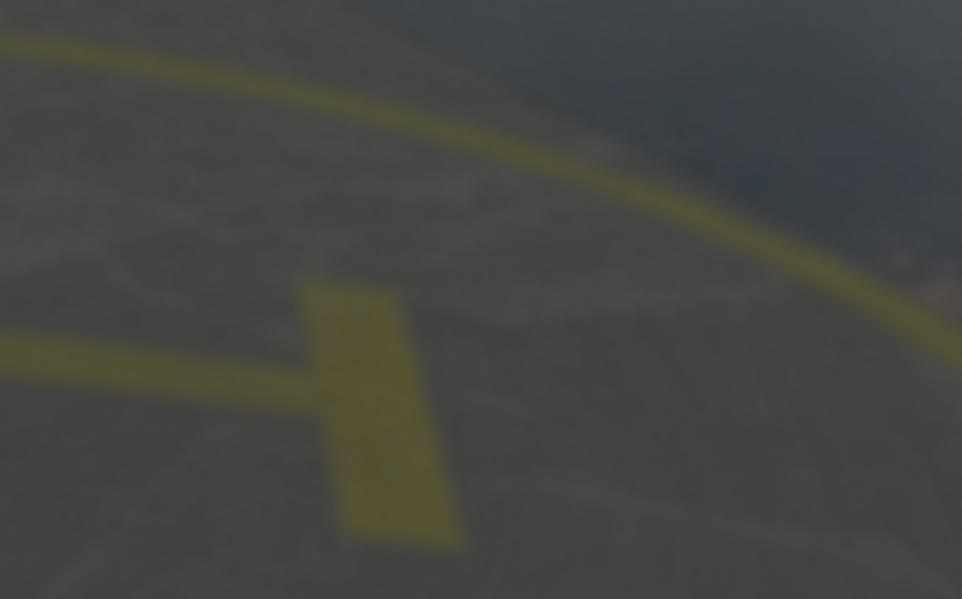Apron: (2, 21, 962, 597)
